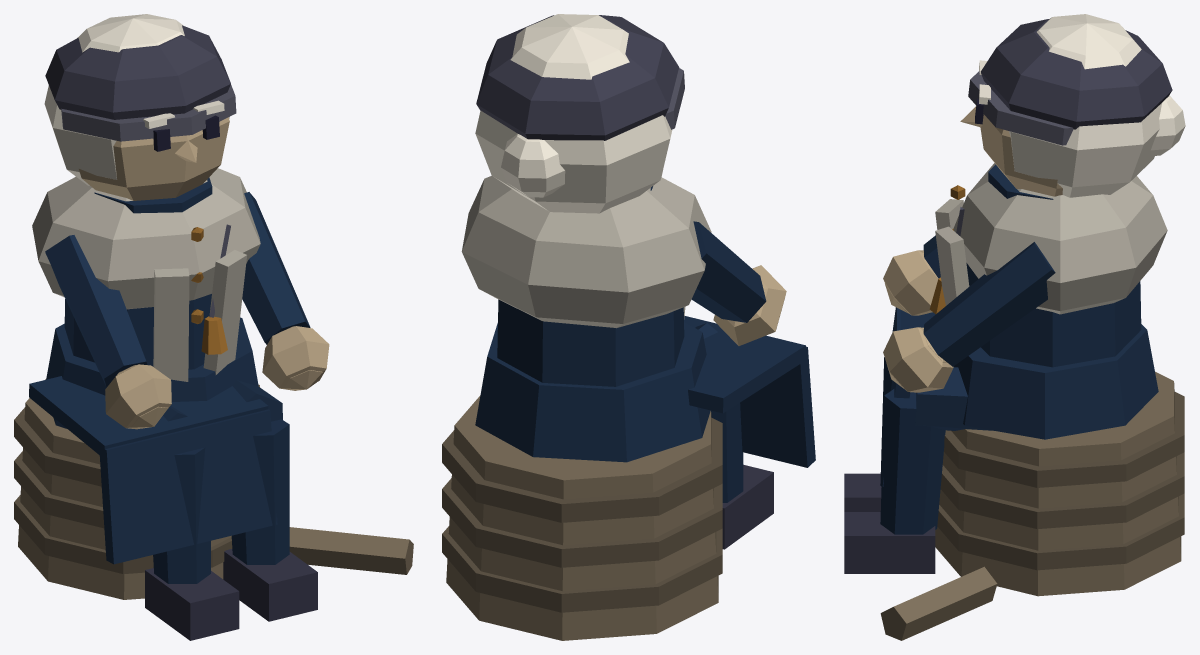
The model's file is wenna.glb.
The picture shows the model from 3 angles, left to right: view 1: azimuth 30°, elevation 25°; view 2: azimuth 150°, elevation 25°; view 3: azimuth 270°, elevation 25°; orthographic projection. The views are drawn at different scales.
Parts seen in each view (by area): view 1: LegL, Torso, Head, Stool, ArmR, LegR, ArmL; view 2: Torso, Stool, Head, LegL, ArmR, LegR; view 3: Torso, Stool, Head, LegL, ArmL, ArmR, LegR.
Part boxes in pixels (x1,y1,x2,y2): LegL: (29,376,317,621); Torso: (32,168,260,428); Head: (44,14,236,200); Stool: (14,379,413,599); ArmR: (45,235,171,429); LegR: (145,405,239,640); ArmL: (242,192,329,390); Torso: (461,175,711,462); Stool: (442,396,722,640); Head: (475,14,684,213); LegL: (684,316,815,467); ArmR: (691,221,786,345); LegR: (695,323,773,549); Torso: (929,163,1167,439); Stool: (880,371,1184,640); Head: (960,14,1185,197); LegL: (844,307,992,573); ArmL: (883,242,1055,392); ArmR: (883,235,940,315); LegR: (844,357,892,511).
Size of the model in its own units: 0.9053 by 1.46 by 0.8561.
